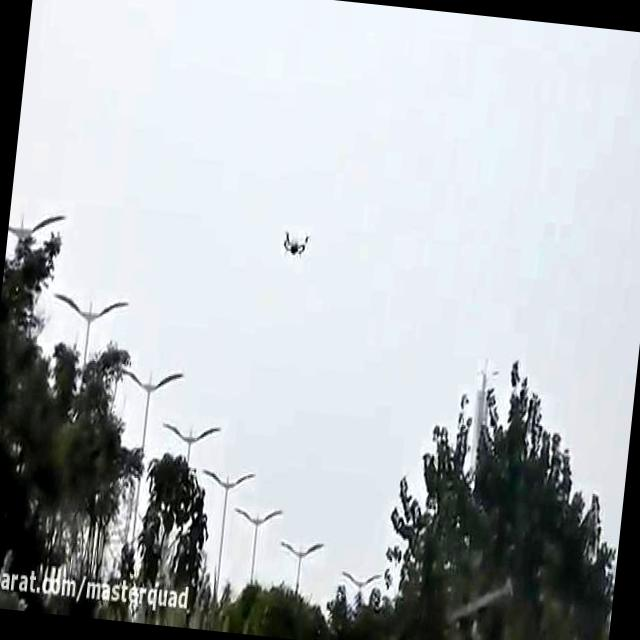drone: (276, 223, 314, 260)
